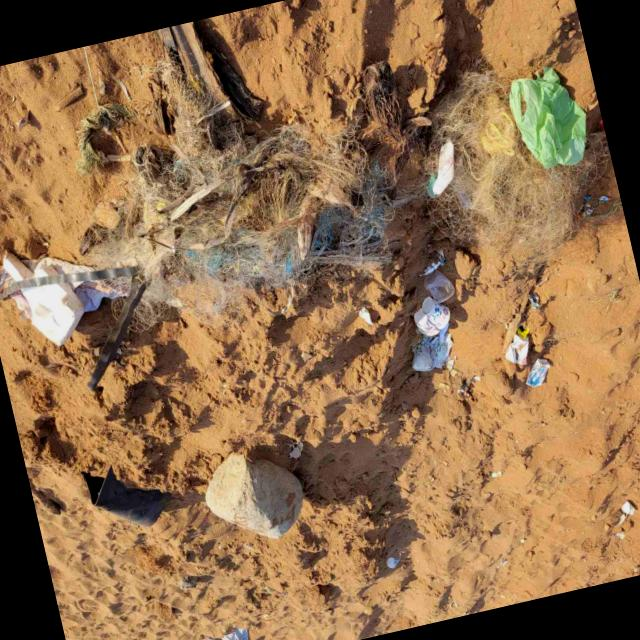hop_nhua: (425, 269, 455, 302)
kim_loai: (87, 282, 147, 390)
ly_hop_giay: (414, 296, 451, 336), (505, 334, 530, 365), (527, 358, 551, 387)
nhua: (412, 325, 453, 371)
rac_huu_co: (86, 21, 407, 323), (423, 64, 611, 263)
tui_ni_long: (510, 66, 587, 168)
xop: (21, 283, 83, 346), (432, 140, 455, 194)
